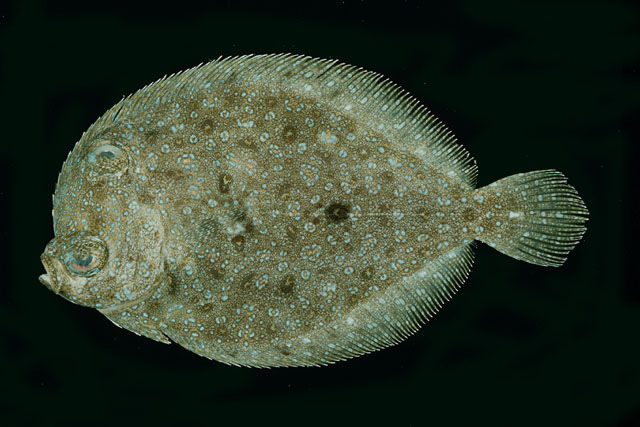fish: (38, 53, 589, 370)
